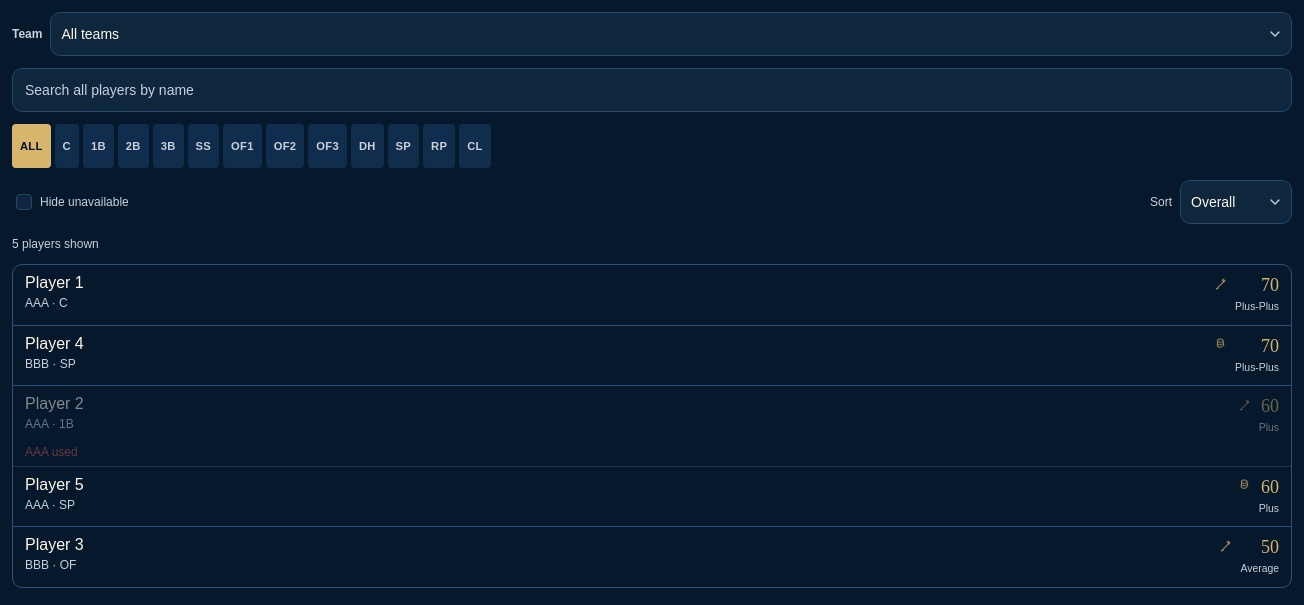
Test case: DailyPlayerBrowser › hides unavailable players when the toggle is on
This screenshot has width=1304, height=605.
What coordinates should you click on to do the following:
click the checkbox named "Hide unavailable"
I would click on:
 (24, 202)
Its box is [16,194,32,210].
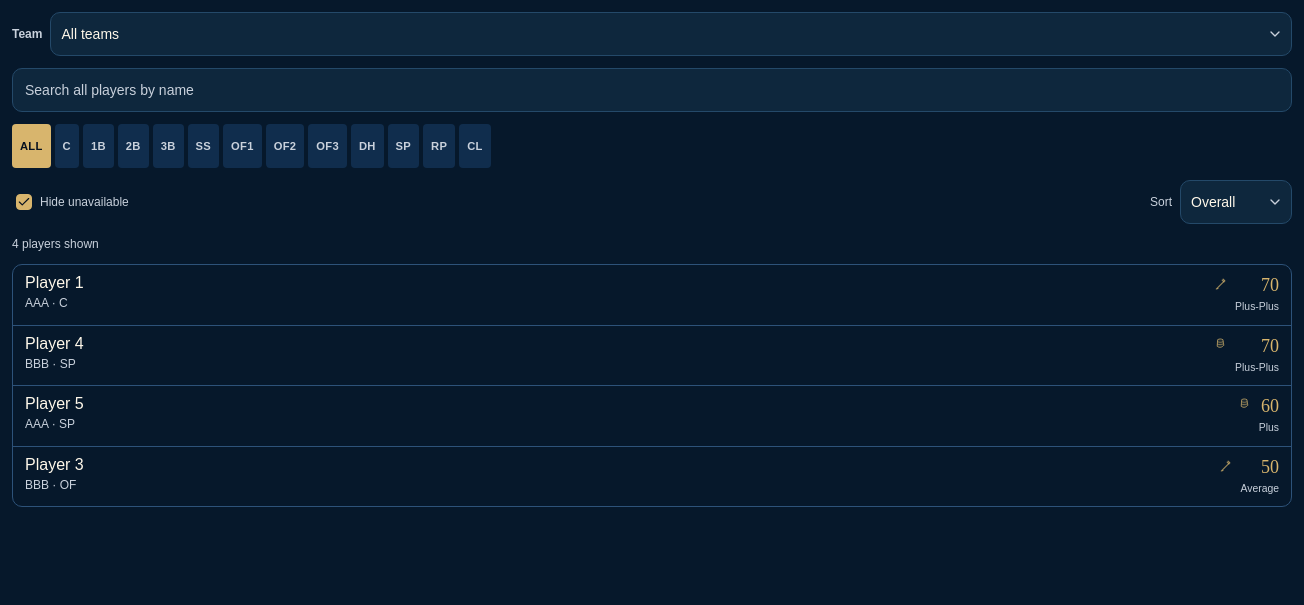
Now the button "Player 2" no longer shows "Player 2"
Now the text "Player 1" is shown 4 times, box [25,271,84,295]; [25,332,84,356]; [25,392,84,416]; [25,453,84,477]
